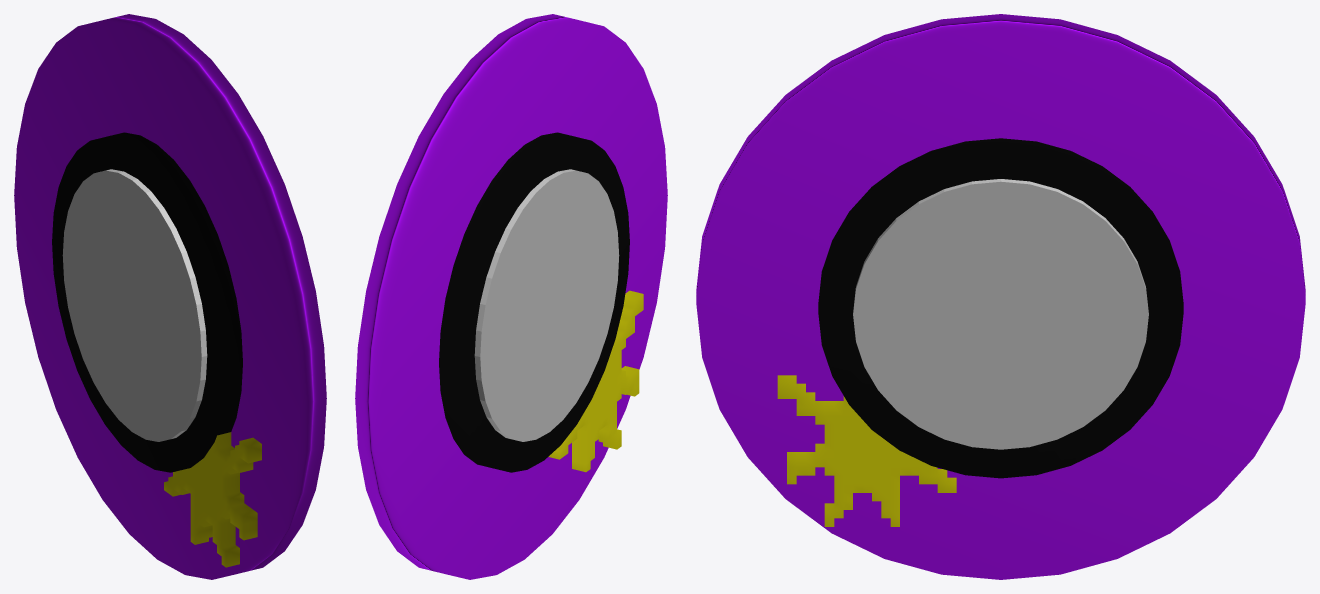
File: drifticon2.fbx
3 views of the same model, side by side, from view 1: azimuth 30°, elevation 25°; view 2: azimuth 150°, elevation 25°; view 3: azimuth 270°, elevation 25° (orthographic). The views are drawn at different scales.
Parts seen in each view (by area): view 1: Cylinder; view 2: Cylinder; view 3: Cylinder.
Part boxes in pixels (x1,y1,x2,y2): Cylinder: (14,14,326,579); Cylinder: (355,14,667,579); Cylinder: (696,14,1305,579).
Bounding box in the file's own units: 55.25 × 368 × 368.
